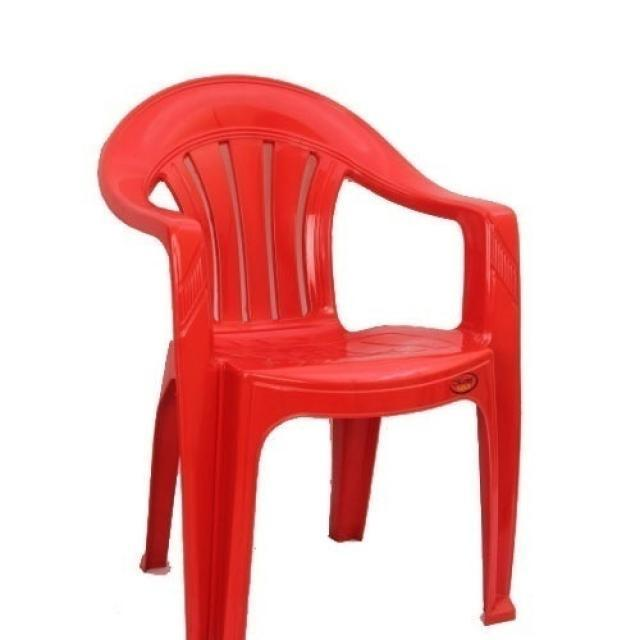chair: (93, 73, 525, 640)
